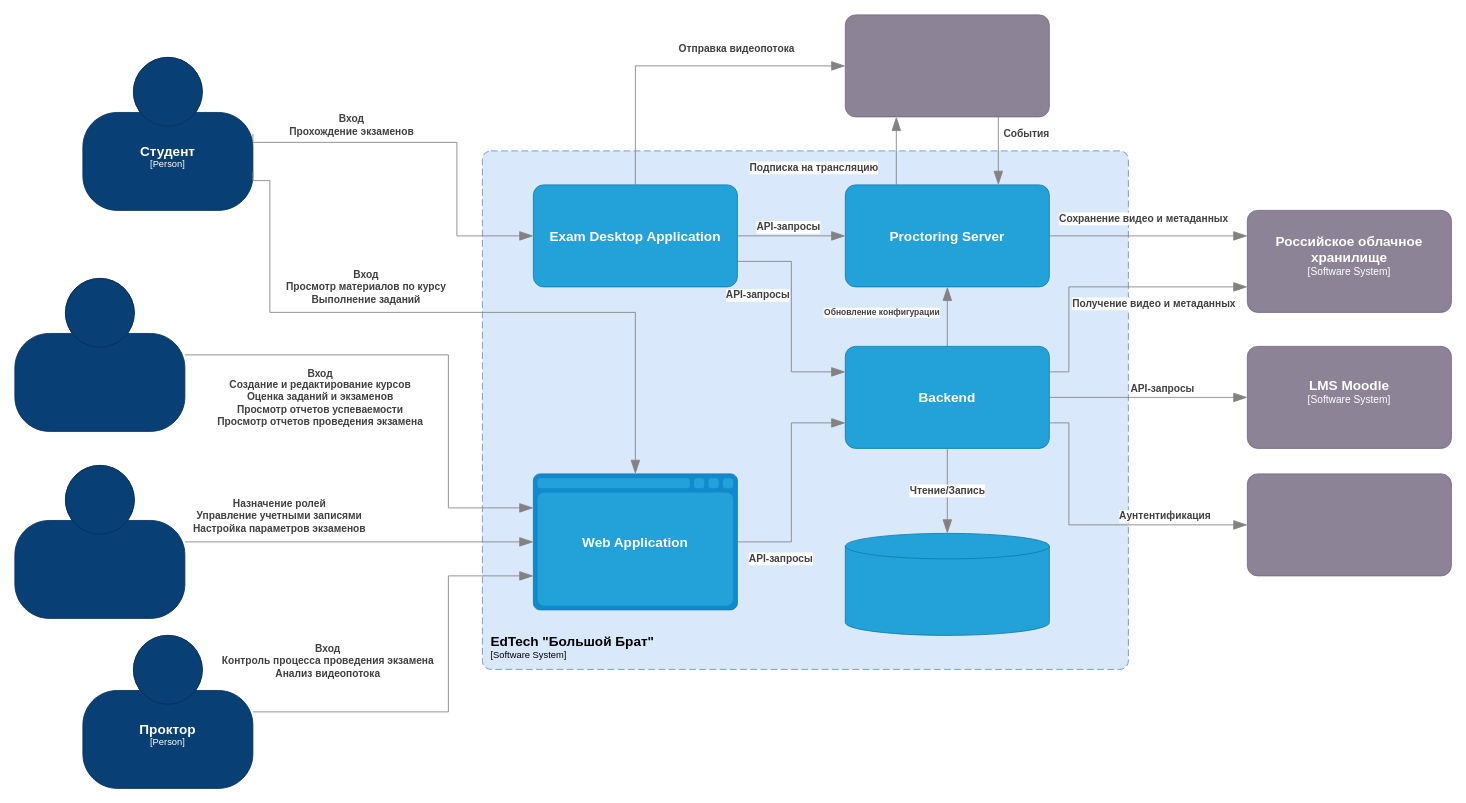
Some shapes in this 1466 by 803 pixel diagram are drawn without their labels. Each missing label, with the centre of its shape:
"Database" belongs at point 946,584.
"SFU-сервер [Software System] [Ретрансляция видеопотока в реальном времени]" belongs at point 946,65.
"SSO [Software System]" belongs at point 1349,524.
"Администратор учебного подразделения [Person]" belongs at point 99,541.
"Преподаватель [Person]" belongs at point 99,354.
